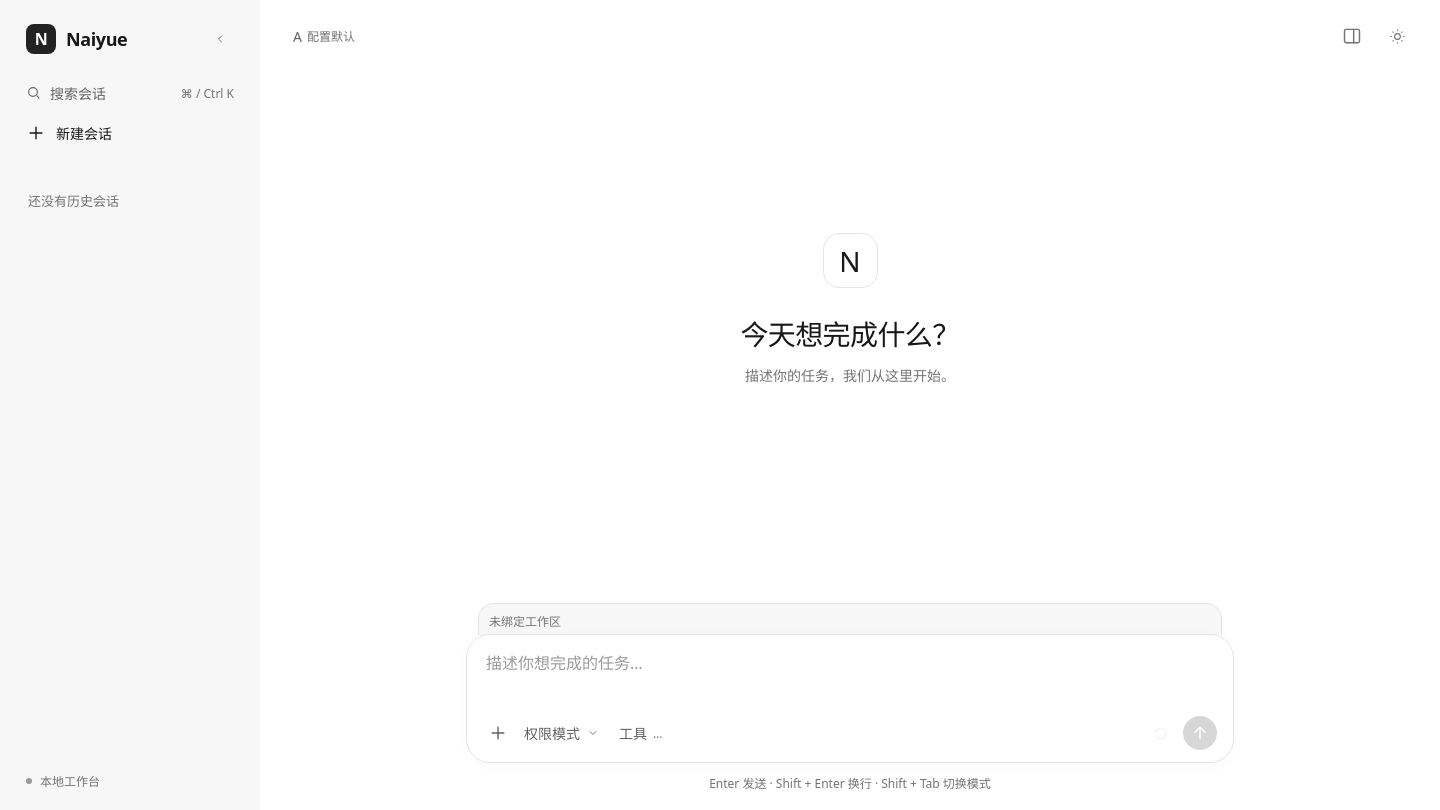
Test case: retains input during stop, without automatically starting another run
Expected: the button with aria-label "模型与推理强度：A" is shown, [288, 19, 360, 53]
Type "first" into the text box named "消息" at (850, 676), box [483, 650, 1217, 703]
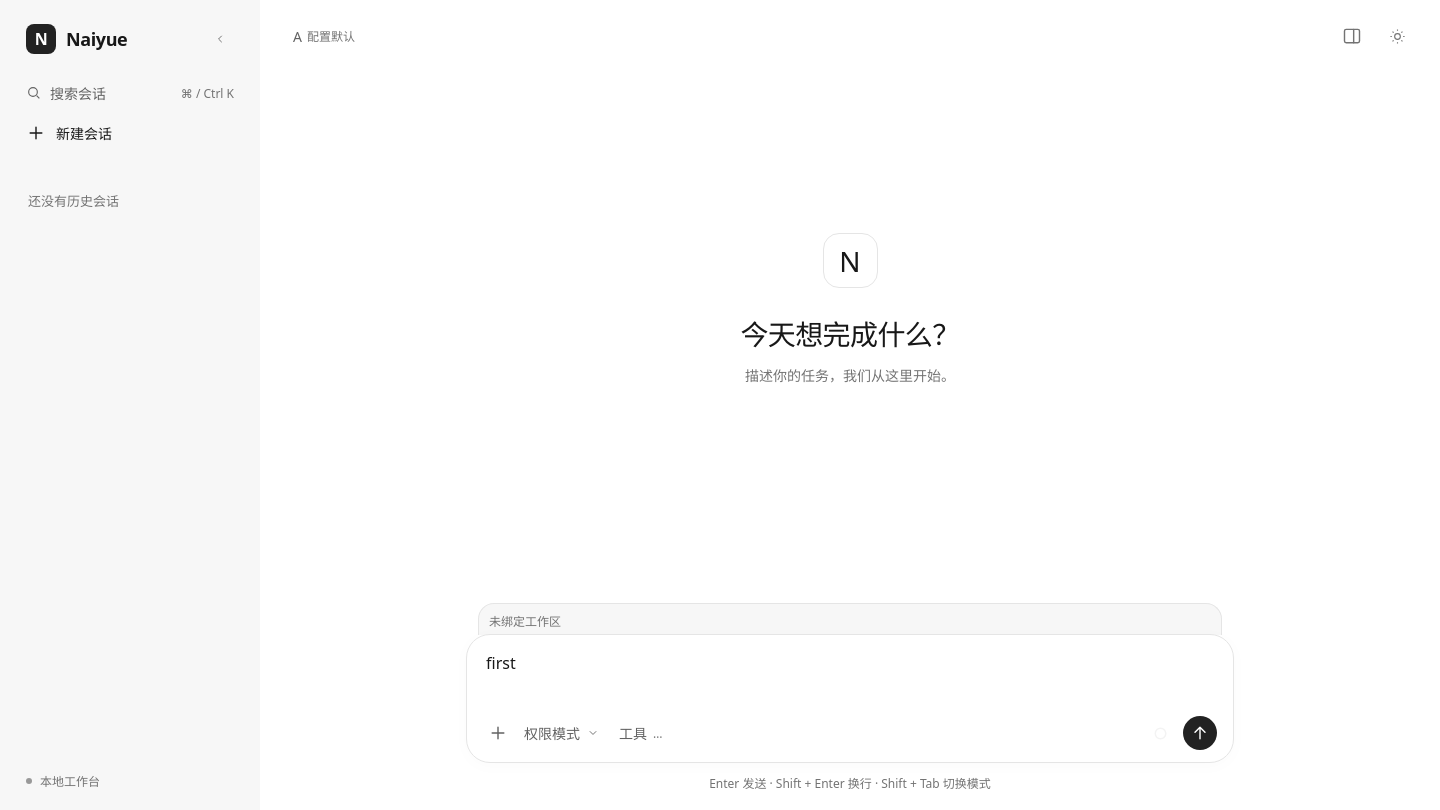
Click the button named "发送消息" at (1200, 733), box [1183, 716, 1217, 750]
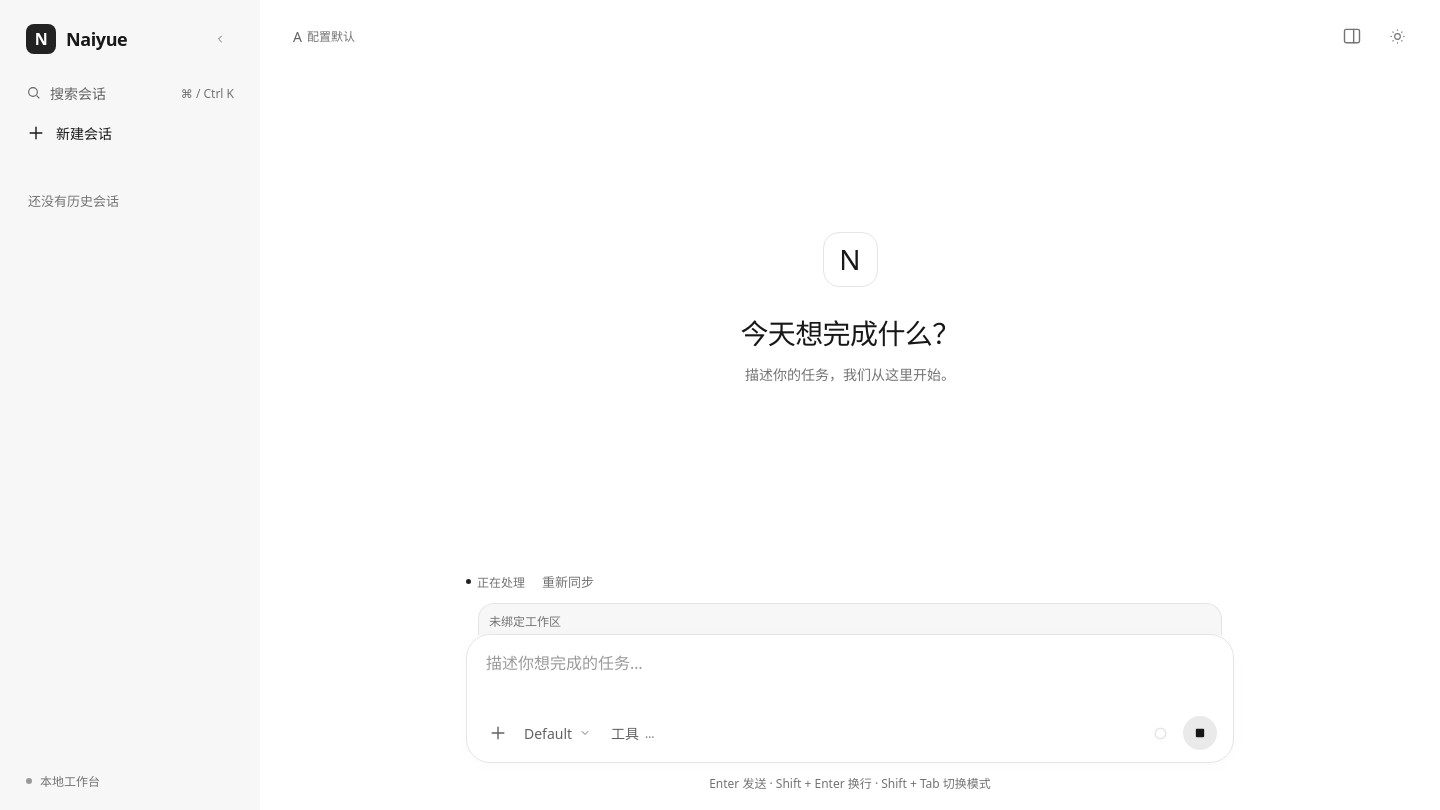
Click the button named "停止运行" at (1200, 733), box [1183, 716, 1217, 750]
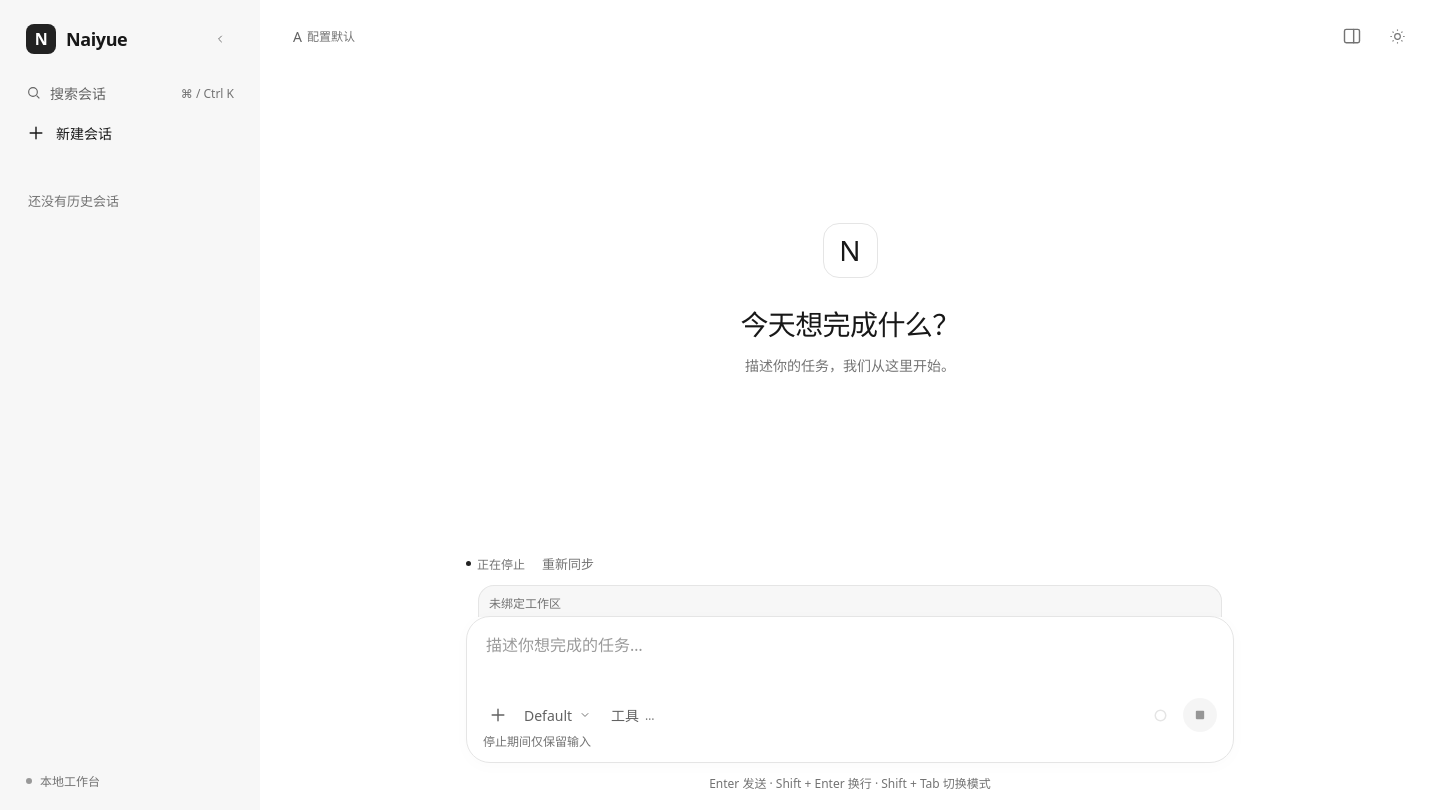
Type "new while stopping" into the text box named "消息" at (850, 658), box [483, 632, 1217, 685]
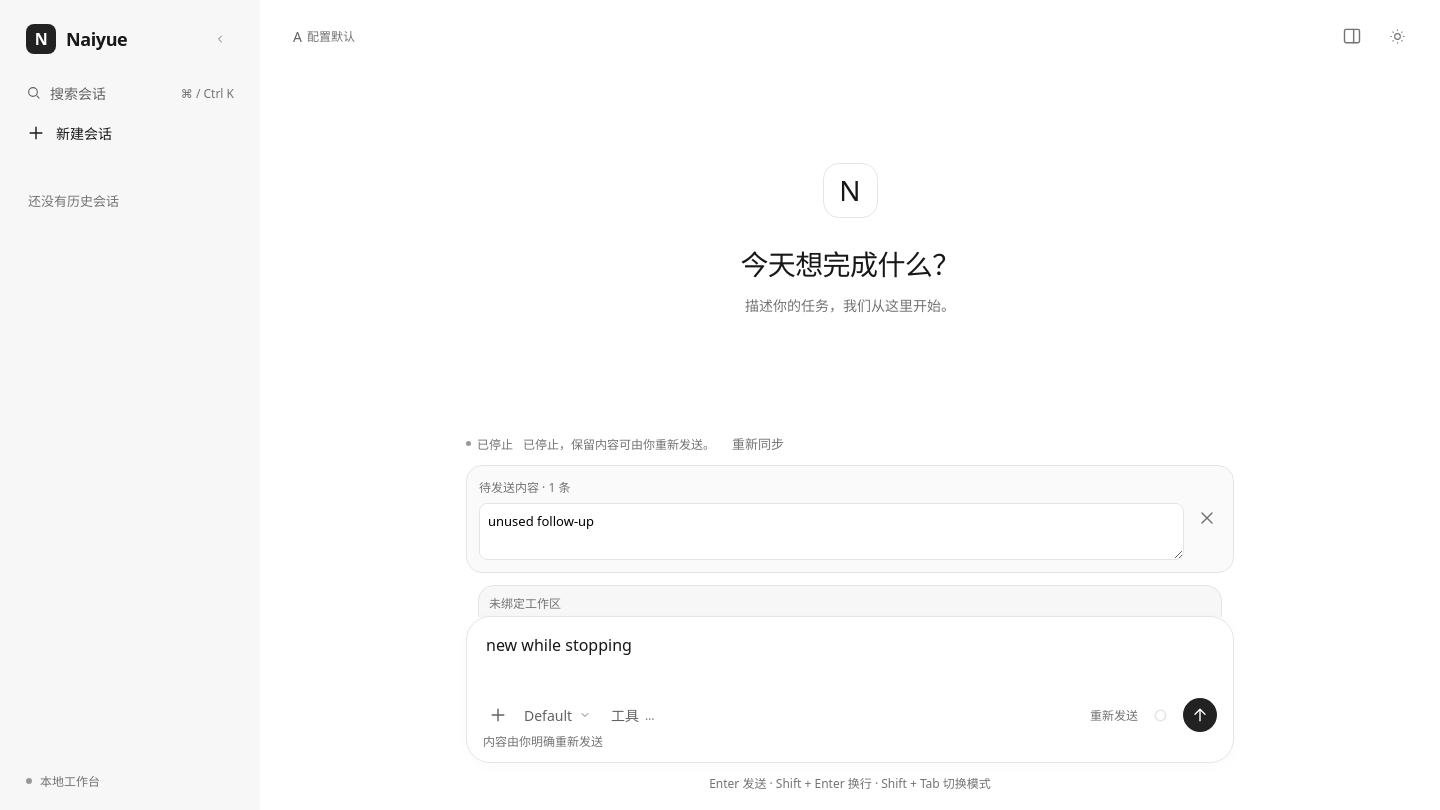
Expected: the text box showing "unused follow-up" is shown, [479, 503, 1184, 560]
